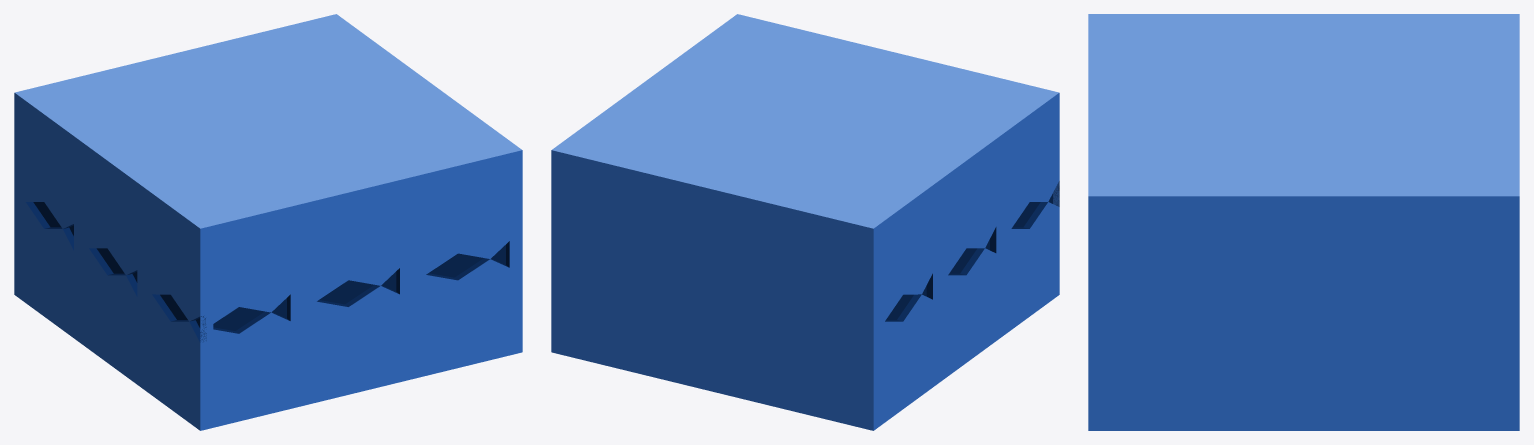
3 views of the same model, side by side, from view 1: azimuth 30°, elevation 25°; view 2: azimuth 150°, elevation 25°; view 3: azimuth 270°, elevation 25° (orthographic). The views are drawn at different scales.
Visible parts, largest first — view 1: Box002; view 2: Box002; view 3: Box002.
Part boxes in pixels (left/top/right/bottom): Box002: left=14, top=14, right=522, bottom=430; Box002: left=551, top=14, right=1059, bottom=430; Box002: left=1088, top=14, right=1519, bottom=430.
Bounding box in the file's own units: 500 × 300 × 500.
